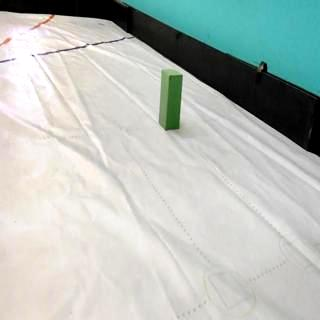greenbox: (158, 68, 185, 130)
